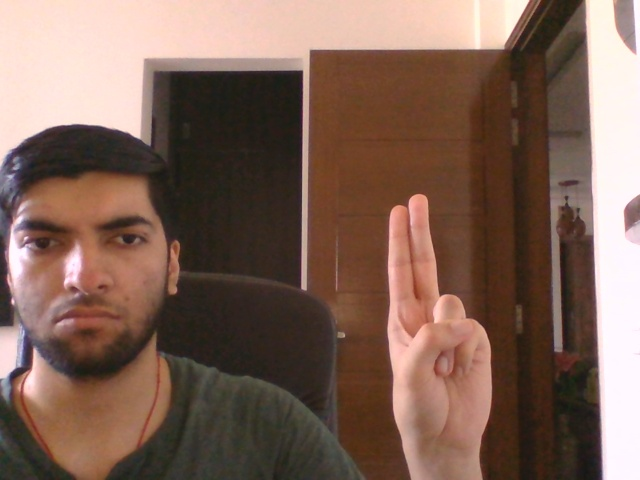LetterU: (385, 192, 495, 458)
